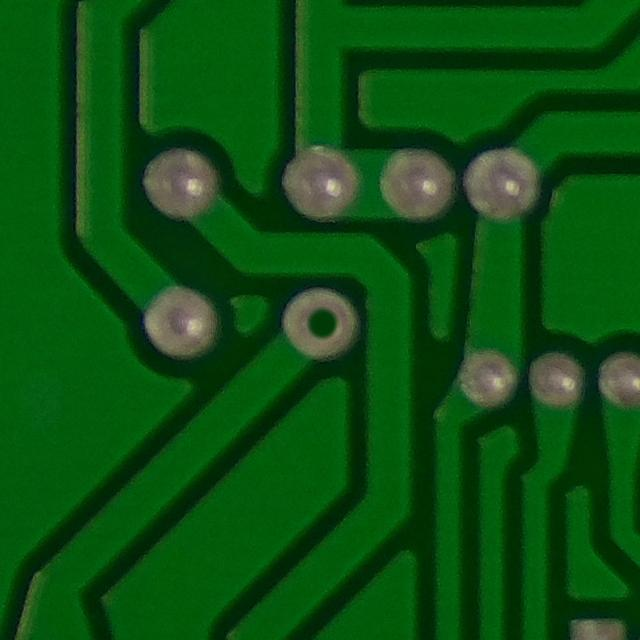missing_hole: (274, 276, 366, 365)
